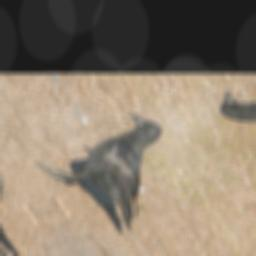Crow: (21, 111, 220, 241)
